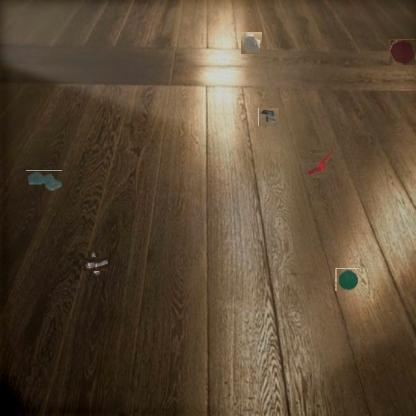dirty: (306, 152, 330, 176), (336, 268, 360, 291), (240, 32, 262, 54), (85, 254, 105, 274), (259, 108, 279, 127)
liquid: (26, 170, 62, 191), (389, 39, 415, 65)
